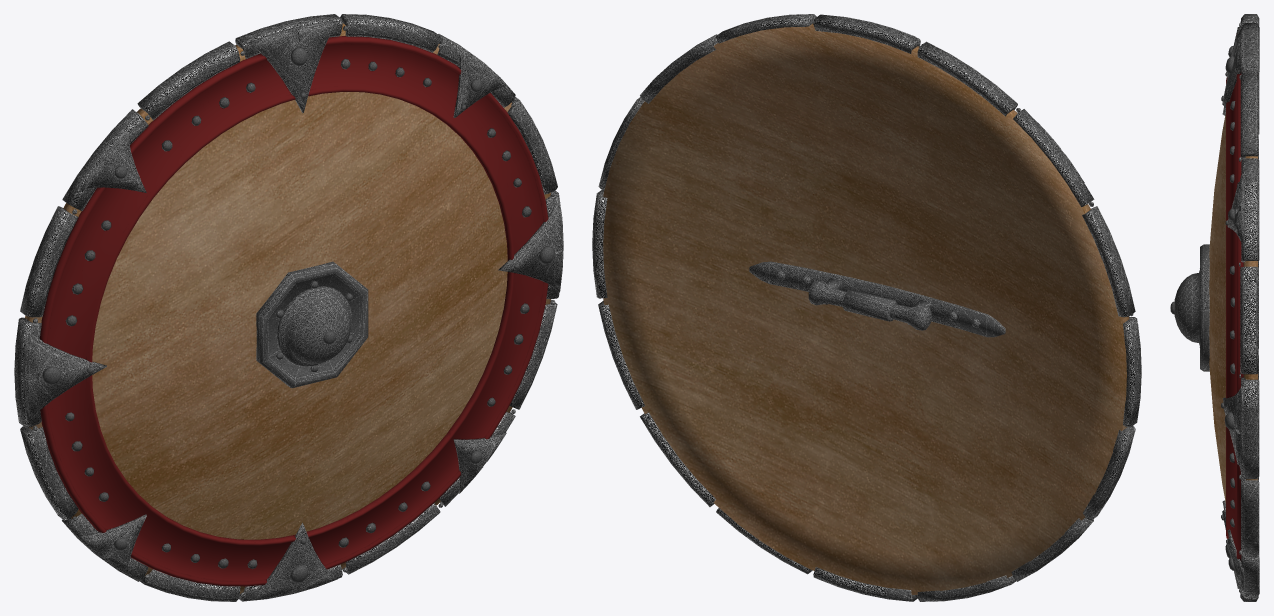
The model's file is limpio.glb.
3 renders of one model, left to right at view 1: azimuth 30°, elevation 25°; view 2: azimuth 150°, elevation 25°; view 3: azimuth 270°, elevation 25°, orthographic. The views are drawn at different scales.
Visible parts, largest first — view 1: Escudo_Madera.003, BandaRoja.002, Aro.002, Escudo_Triangulos.002, Centro.002, Remaches.002; view 2: Escudo_Madera.003, Aro.002, Agarradera.002; view 3: Aro.002, BandaRoja.002, Escudo_Madera.003, Escudo_Triangulos.002, Centro.002, Remaches.002.
Boxes of the visible parts, x1,y1,x2,y2 form: Escudo_Madera.003: (25, 23, 550, 593); BandaRoja.002: (39, 36, 548, 586); Aro.002: (14, 14, 562, 601); Escudo_Triangulos.002: (23, 21, 563, 600); Centro.002: (256, 261, 368, 388); Remaches.002: (42, 47, 554, 583); Escudo_Madera.003: (603, 23, 1129, 594); Aro.002: (592, 14, 1141, 601); Agarradera.002: (749, 261, 1005, 337); Aro.002: (1238, 14, 1259, 601); BandaRoja.002: (1226, 33, 1243, 561); Escudo_Madera.003: (1209, 114, 1257, 502); Escudo_Triangulos.002: (1222, 26, 1243, 593); Centro.002: (1174, 244, 1209, 371); Remaches.002: (1170, 46, 1235, 570).
Size of the model in its own units: 2 by 2 by 0.3027.
Materials: 3 (3 with a texture image).
